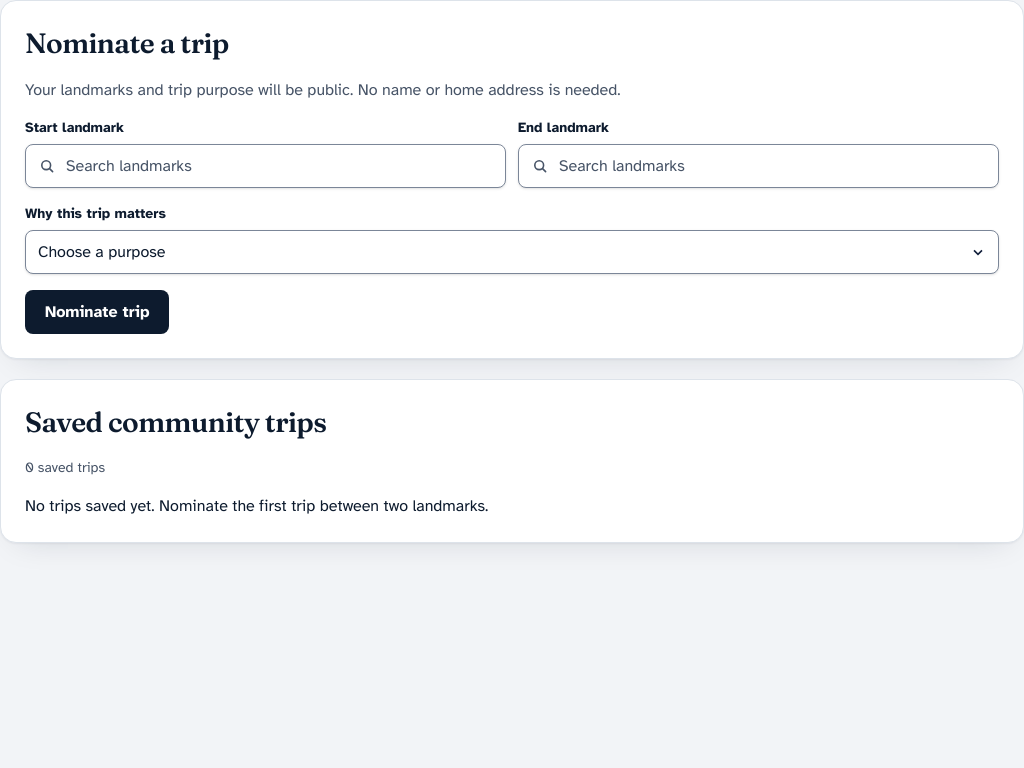
Test case: asks for both landmarks when the form is sent without choosing them
Type "Station" into the dropdown labelled "Start landmark" at [266, 166], box [25,144,506,188]
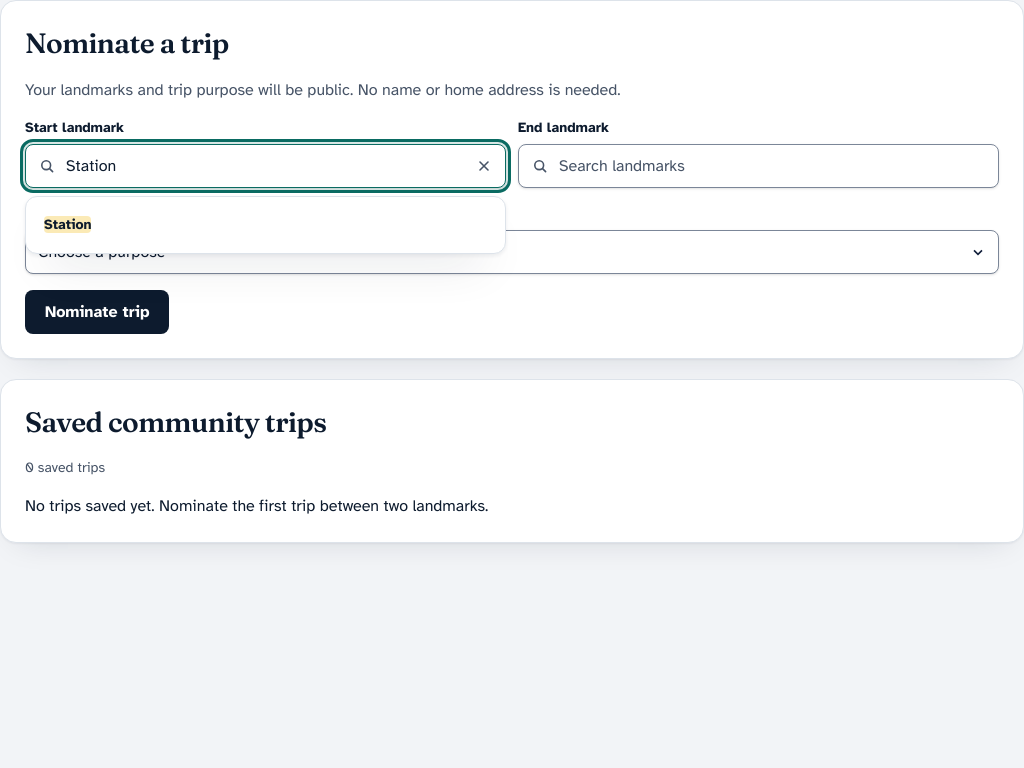
Click the option "Station" at [68, 225], box [44,216,92,233]
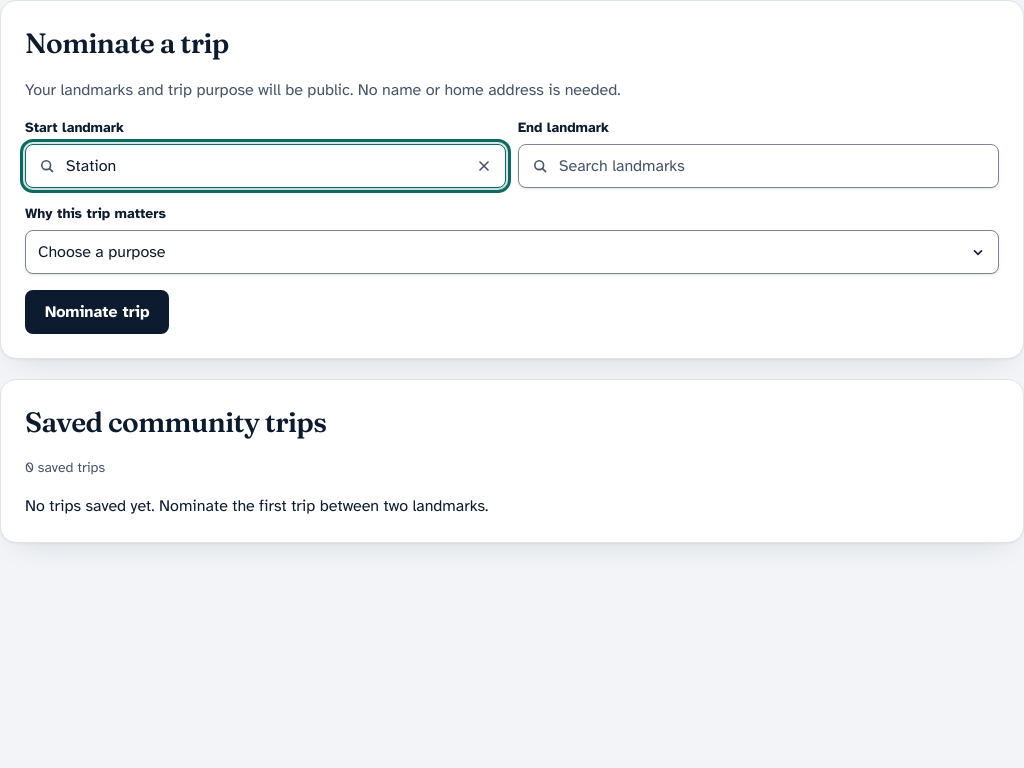
Select "Reach a school or library" in the dropdown labelled "Why this trip matters" at [512, 252], box [25,230,999,274]
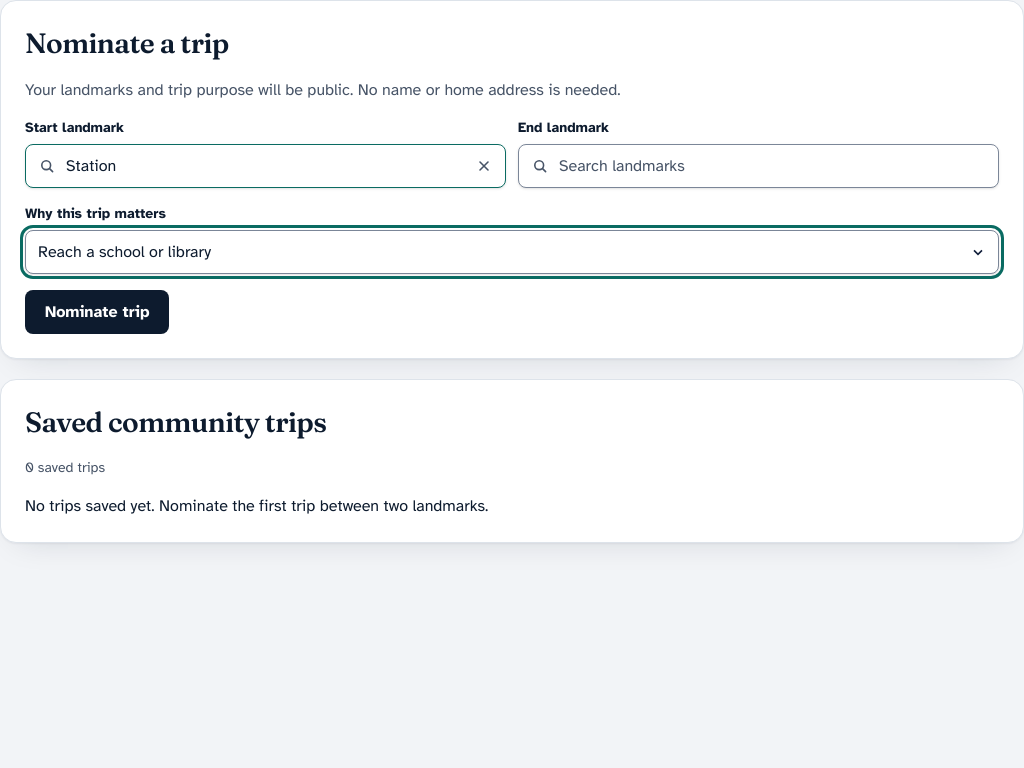
Click the button "Nominate trip" at [97, 312], box [25,290,169,334]
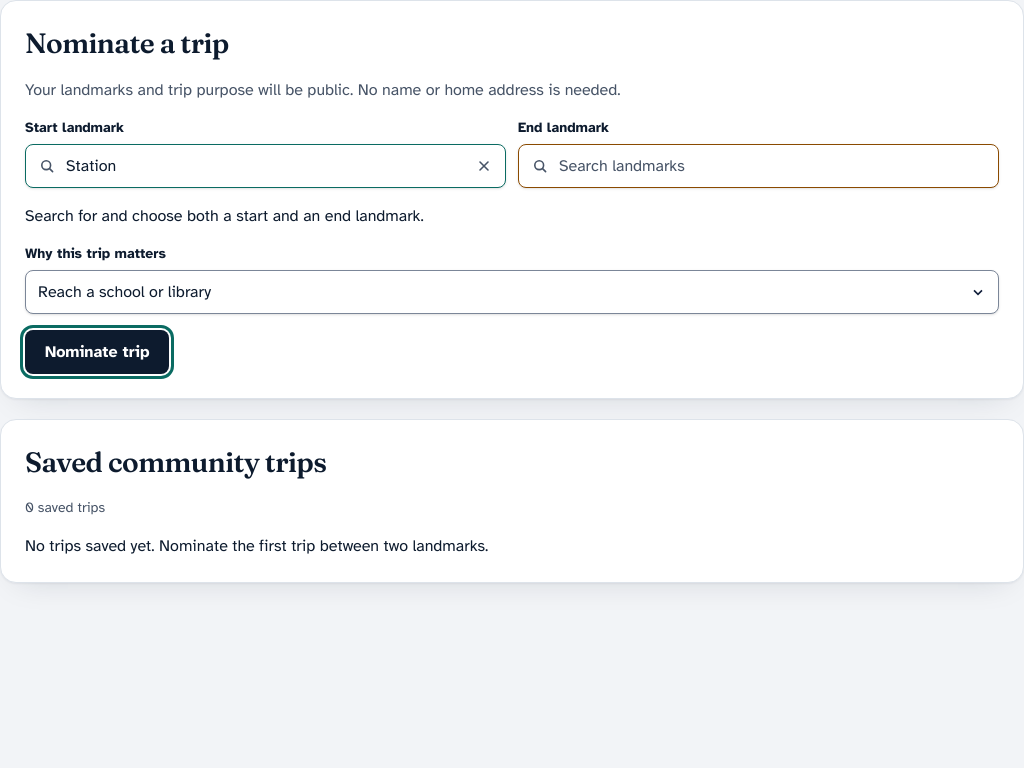
Result: the message "Search for and choose both a start and an end landmark." is shown at [25,206,424,226]
